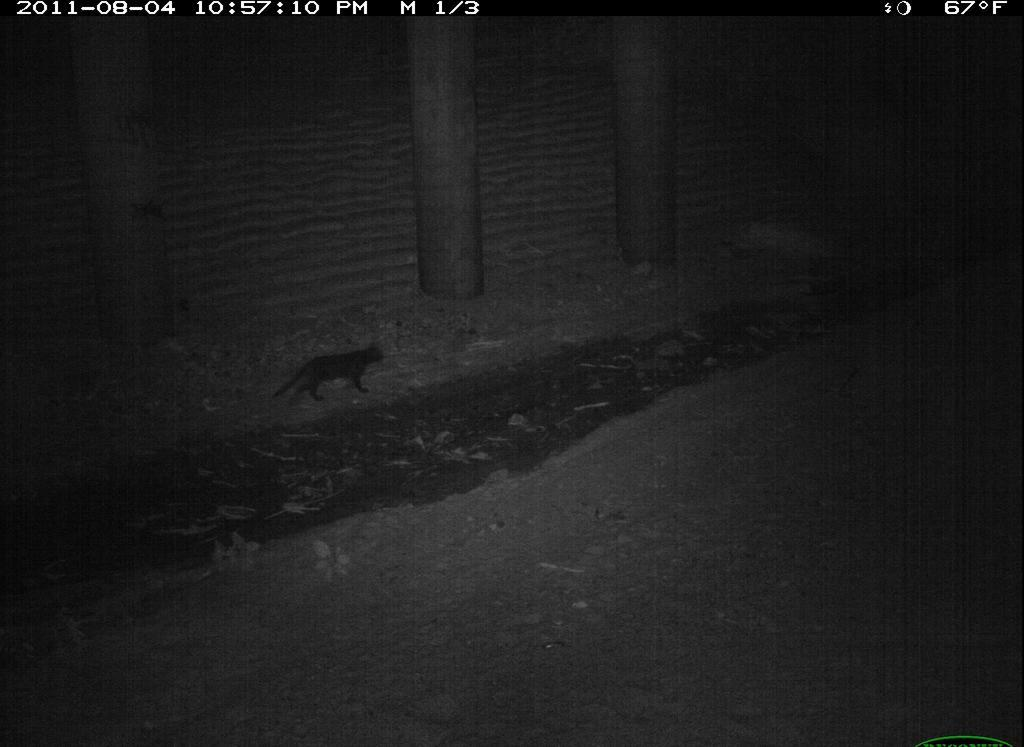cat: (527, 674, 797, 747)
